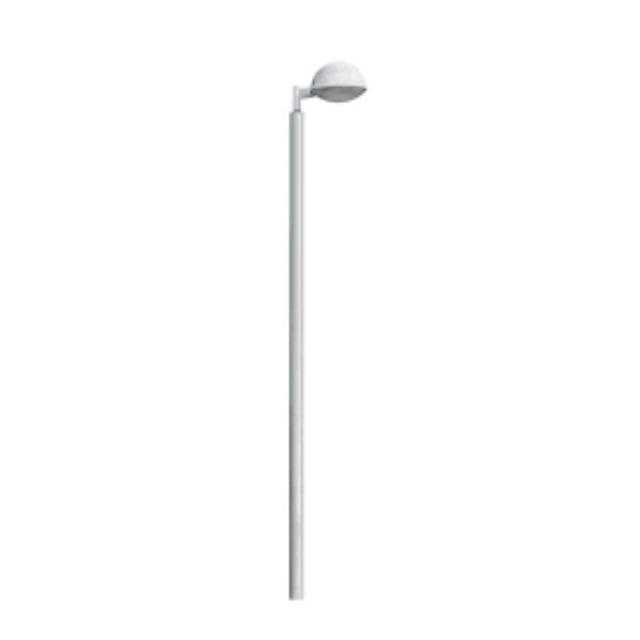obstacle: (252, 35, 374, 622)
